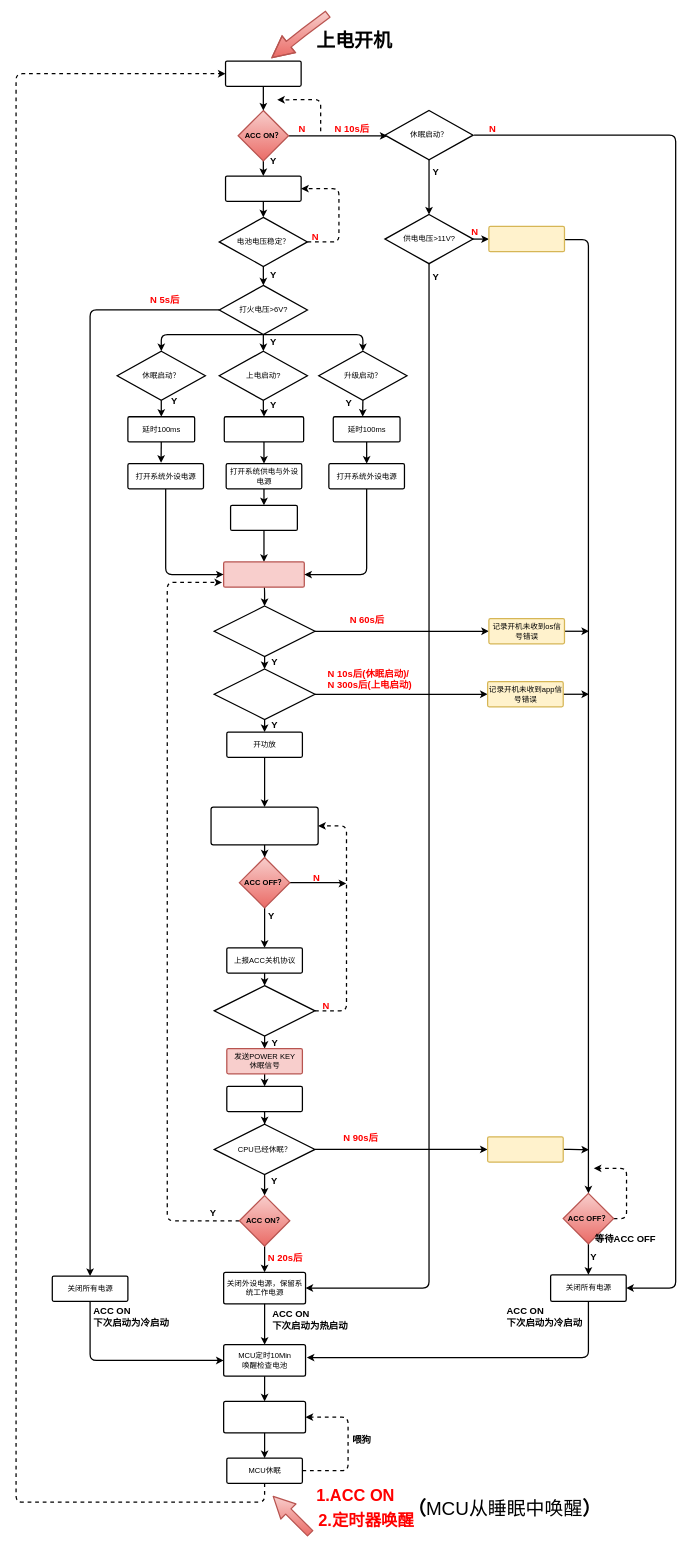
Image size: 692x1548. Some labels were removed from this diagram. Here are the shapes that lost their labels. From the top down, the box of each, then its label:
(225, 60, 301, 87): MCU初始化
(225, 175, 301, 202): 采集开机打火电压1s
(488, 226, 565, 252): 记录休眠电压过低 错误
(223, 416, 304, 442): 断开电源200ms
(230, 504, 298, 531): 延时800ms
(223, 561, 305, 587): 开始发送POWER KEY 唤醒信号
(213, 605, 315, 657): 等待系统启动信号， CPU已经唤醒？
(213, 668, 315, 720): 等待应用发送心跳协议， 应用是否启动？
(210, 806, 318, 845): 轮询处理： 采集电压，检测信号，控制外设，与应用通信等，上报错误
(213, 985, 315, 1036): ACC OFF >10s?
(226, 1085, 303, 1112): 等待CPU休眠信号
(487, 1136, 564, 1162): 记录休眠os信号超时错误
(223, 1400, 306, 1433): MCU定时10s唤醒喂狗
